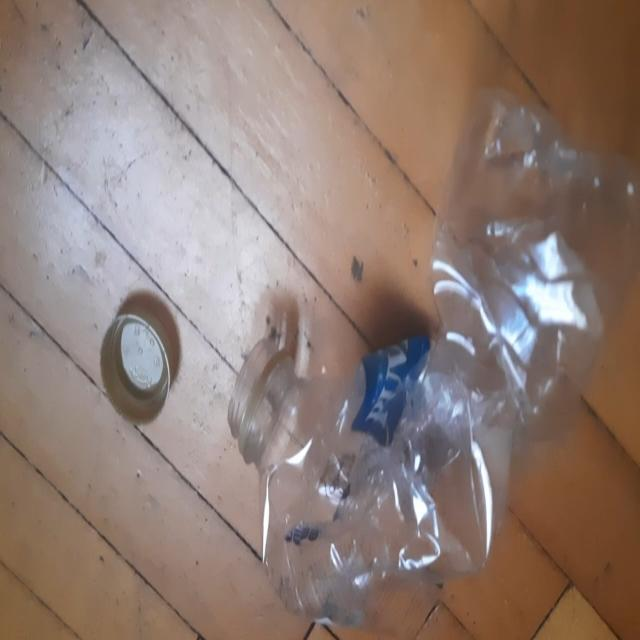Plastic: (231, 86, 637, 627)
